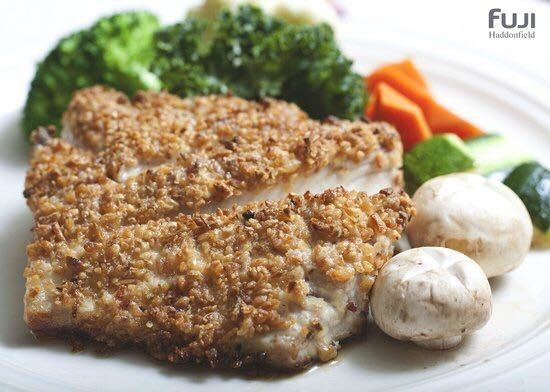curry: (25, 2, 369, 130), (403, 133, 479, 195)
